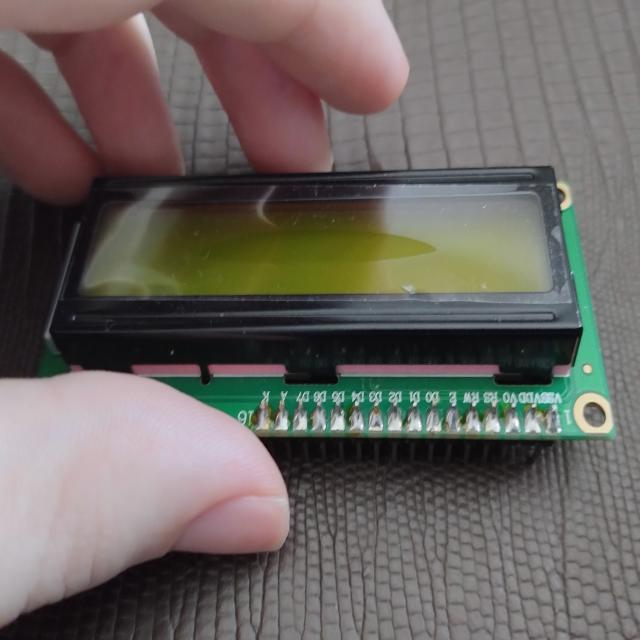lcd: (45, 164, 616, 446)
